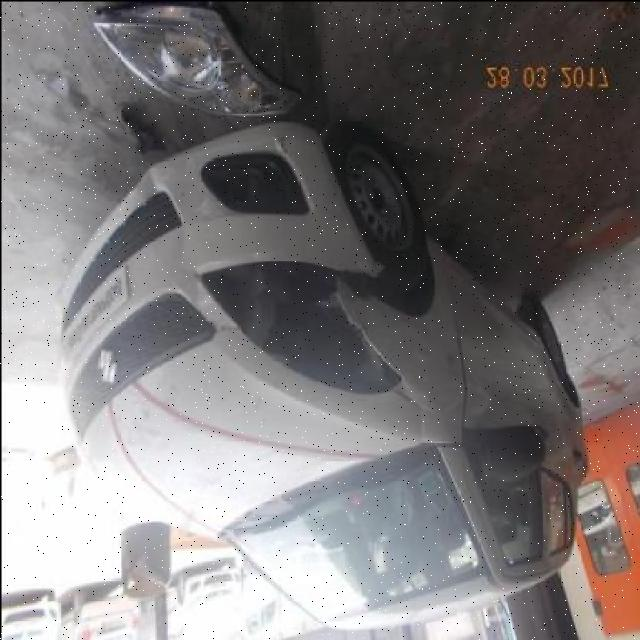damage: (195, 257, 397, 391), (198, 146, 311, 212), (332, 260, 383, 297)
